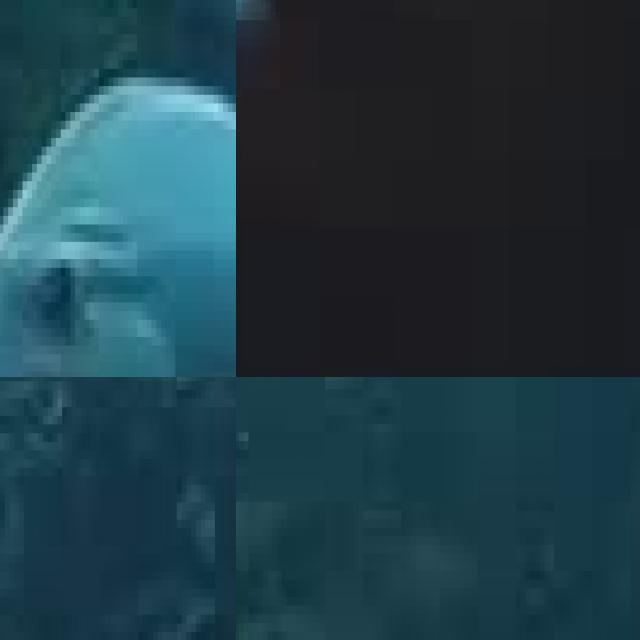fish: (236, 0, 640, 377), (0, 0, 236, 377)
